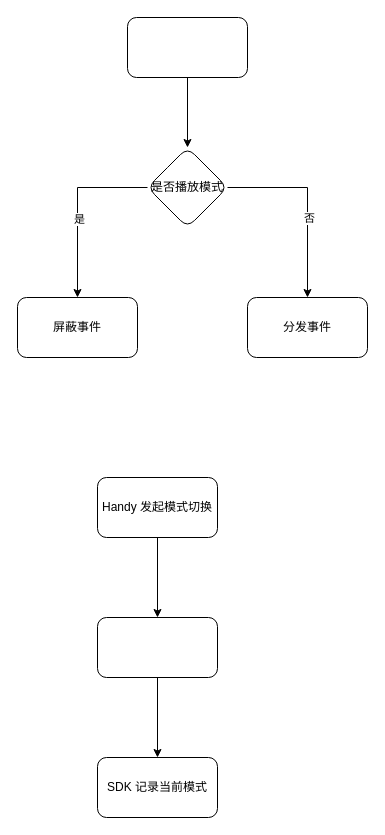
Some shapes in this 385 by 835 pixel diagram are drawn without their labels. The centre of each missing label's shape, as x and y in pixels:
"Screen 启动/关闭 PlayService" goes at (157,647).
"信号源切换" goes at (187,47).
